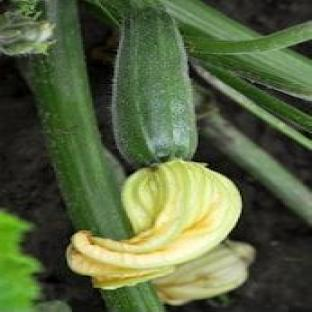Zucchini: (114, 8, 196, 166)
